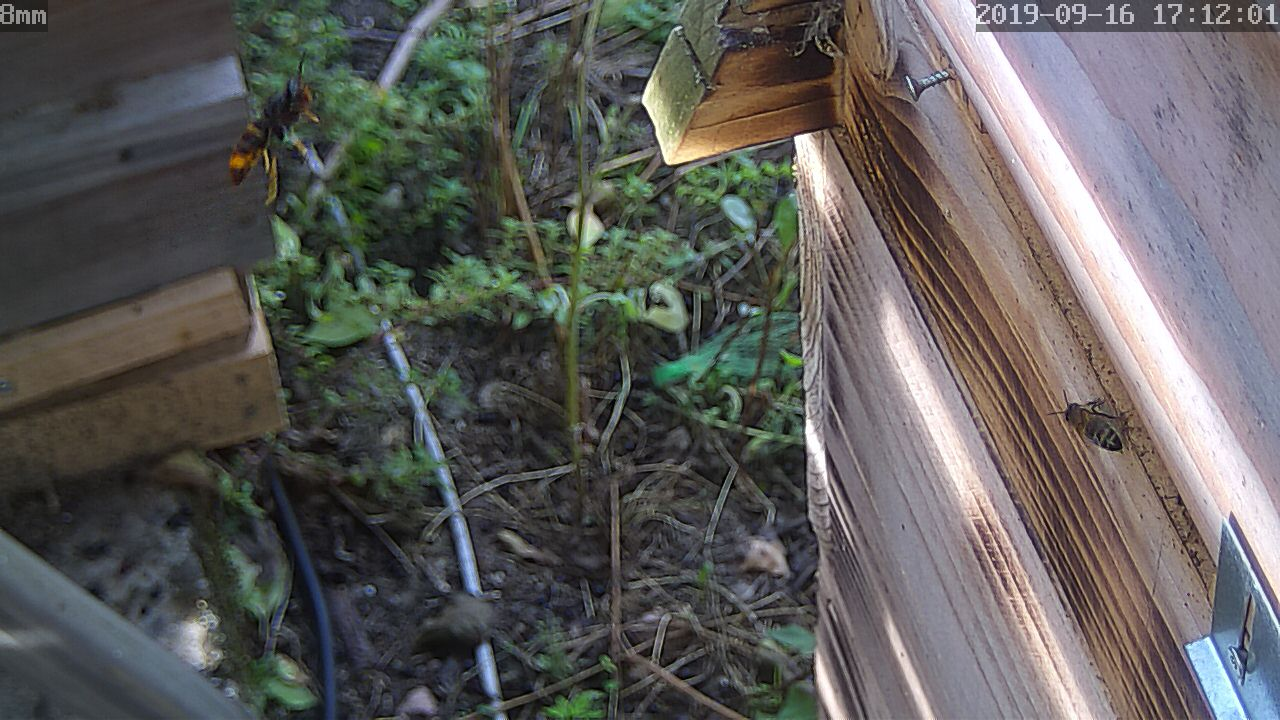bee: (1059, 393, 1123, 457)
